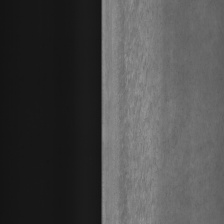silk_spot: (117, 17, 158, 215)
